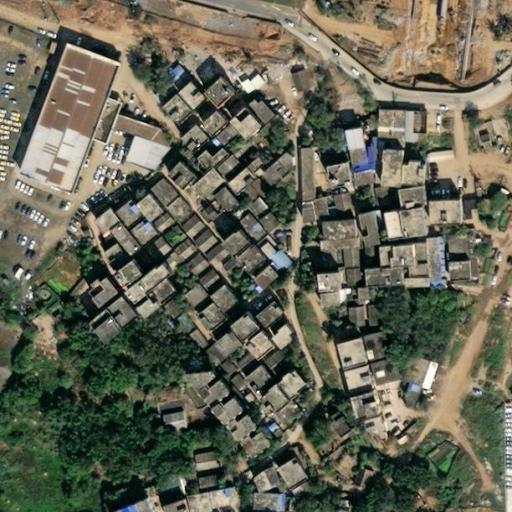building: (37, 43, 118, 135), (14, 116, 91, 197), (256, 381, 298, 424), (107, 108, 159, 142), (211, 395, 251, 433), (199, 378, 237, 416), (215, 326, 252, 365), (89, 95, 117, 144), (252, 158, 289, 194), (270, 454, 305, 492), (109, 295, 144, 332), (277, 368, 312, 405), (157, 91, 192, 127), (107, 220, 142, 256), (90, 278, 126, 313), (205, 282, 240, 317), (160, 160, 196, 194), (186, 168, 220, 203), (225, 412, 260, 446), (176, 124, 209, 158), (233, 108, 267, 141), (202, 79, 235, 113), (236, 428, 270, 461), (348, 395, 383, 427), (355, 209, 383, 248), (334, 338, 367, 371), (115, 132, 146, 167), (266, 322, 298, 355), (378, 150, 404, 190), (133, 193, 165, 225), (109, 194, 141, 226), (234, 241, 266, 273), (401, 209, 430, 243), (198, 110, 229, 141), (239, 363, 270, 394), (292, 148, 311, 198), (196, 142, 226, 173), (222, 167, 253, 197), (343, 365, 373, 396), (393, 242, 426, 270), (203, 423, 223, 469), (172, 81, 202, 111), (142, 176, 172, 206), (192, 302, 222, 331), (191, 365, 220, 394), (287, 61, 315, 91), (236, 65, 266, 93), (380, 210, 404, 244), (91, 208, 120, 236), (222, 230, 251, 258), (238, 316, 267, 344), (322, 410, 349, 440), (161, 55, 189, 83), (209, 153, 236, 182), (90, 309, 119, 336), (393, 381, 418, 412), (160, 193, 187, 221), (354, 245, 382, 272), (326, 162, 353, 190), (249, 333, 276, 361), (139, 139, 166, 166), (164, 235, 191, 262), (196, 238, 223, 265), (97, 243, 124, 270), (209, 186, 236, 213), (122, 261, 149, 288), (179, 284, 206, 311), (100, 321, 128, 347), (441, 259, 472, 282), (213, 122, 238, 150), (320, 219, 351, 241), (131, 219, 157, 245), (239, 193, 265, 219), (139, 235, 165, 260), (150, 281, 176, 306), (141, 271, 167, 296), (398, 188, 425, 212), (401, 161, 425, 188), (149, 477, 176, 501), (440, 238, 469, 260), (265, 249, 289, 274), (238, 219, 262, 243), (139, 299, 163, 323), (246, 491, 276, 510), (193, 468, 220, 489), (126, 284, 150, 307), (218, 264, 242, 287), (316, 273, 343, 293), (226, 138, 248, 161), (246, 99, 269, 121), (261, 466, 282, 490), (286, 480, 311, 500), (170, 212, 192, 234), (184, 225, 206, 247), (342, 127, 363, 150), (295, 201, 314, 226), (177, 219, 199, 240), (181, 257, 203, 278), (229, 354, 251, 375), (324, 192, 344, 215), (153, 409, 178, 427), (212, 254, 233, 275), (184, 491, 205, 512), (382, 269, 405, 288), (313, 240, 352, 251), (251, 271, 271, 292), (228, 213, 249, 233), (272, 151, 292, 172), (248, 472, 269, 492), (345, 467, 364, 489), (398, 111, 411, 143), (191, 233, 211, 253), (413, 368, 431, 390), (151, 398, 175, 414), (259, 262, 278, 282), (362, 269, 382, 288), (345, 189, 363, 210), (357, 300, 372, 325), (318, 292, 340, 309), (428, 203, 442, 229), (422, 171, 450, 184), (378, 245, 393, 269), (185, 449, 209, 464), (339, 306, 356, 327), (177, 252, 196, 270), (385, 126, 398, 151), (158, 265, 176, 283), (240, 180, 258, 198), (205, 491, 223, 509), (159, 500, 186, 512), (333, 248, 350, 267), (425, 240, 436, 269), (349, 161, 370, 176), (419, 112, 432, 136), (190, 267, 208, 284), (440, 202, 461, 216), (197, 273, 215, 289), (366, 186, 381, 205), (370, 124, 385, 143), (371, 106, 386, 125), (117, 270, 132, 289), (313, 250, 327, 270), (385, 107, 399, 127), (421, 151, 446, 162), (195, 203, 211, 220), (131, 474, 147, 491), (136, 159, 154, 174), (311, 148, 320, 178), (471, 132, 486, 149), (349, 288, 370, 300), (443, 214, 462, 227), (138, 501, 160, 512), (405, 279, 428, 288), (343, 266, 352, 288), (254, 257, 267, 271), (405, 270, 425, 279), (477, 184, 488, 200), (425, 268, 440, 279), (320, 153, 333, 165), (438, 159, 449, 172), (331, 151, 342, 163), (428, 279, 440, 288), (397, 142, 407, 151), (492, 132, 500, 142), (222, 487, 228, 500), (343, 288, 349, 300), (372, 369, 381, 377), (279, 509, 302, 512), (361, 325, 370, 331), (494, 129, 501, 134)
